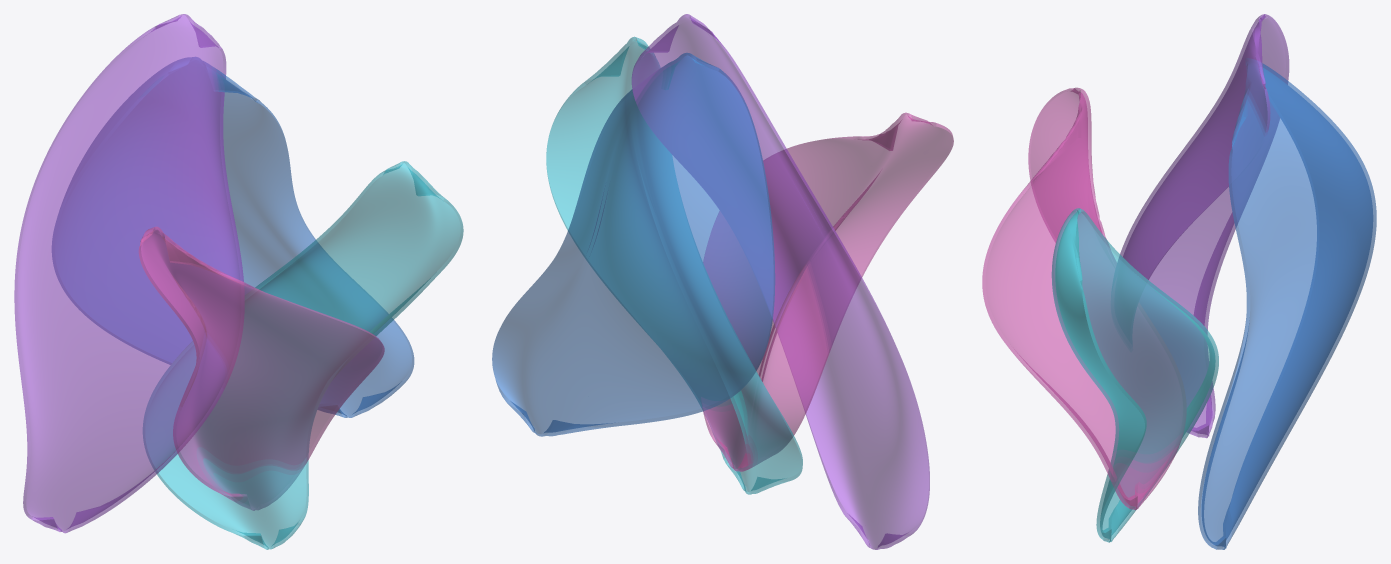
File: chromatic-glass.glb
The picture shows the model from 3 angles, left to right: view 1: azimuth 30°, elevation 25°; view 2: azimuth 150°, elevation 25°; view 3: azimuth 270°, elevation 25°; orthographic projection. The views are drawn at different scales.
Parts seen in each view (by area): view 1: Glass fold 0, Glass fold 1, Glass fold 2, Glass fold 3; view 2: Glass fold 1, Glass fold 0, Glass fold 2, Glass fold 3; view 3: Glass fold 1, Glass fold 3, Glass fold 0, Glass fold 2.
Part boxes in pixels (x1=…): Glass fold 0: x1=14, y1=14, x2=244, y2=533; Glass fold 1: x1=52, y1=57, x2=414, y2=417; Glass fold 2: x1=143, y1=161, x2=463, y2=549; Glass fold 3: x1=138, y1=226, x2=384, y2=510; Glass fold 1: x1=492, y1=53, x2=775, y2=436; Glass fold 0: x1=631, y1=14, x2=929, y2=549; Glass fold 2: x1=546, y1=36, x2=802, y2=494; Glass fold 3: x1=702, y1=112, x2=953, y2=471; Glass fold 1: x1=1198, y1=58, x2=1376, y2=549; Glass fold 3: x1=982, y1=87, x2=1186, y2=509; Glass fold 0: x1=1111, y1=14, x2=1289, y2=438; Glass fold 2: x1=1051, y1=208, x2=1218, y2=542.
Bounding box in the file's own units: 2.42 × 2.88 × 2.
